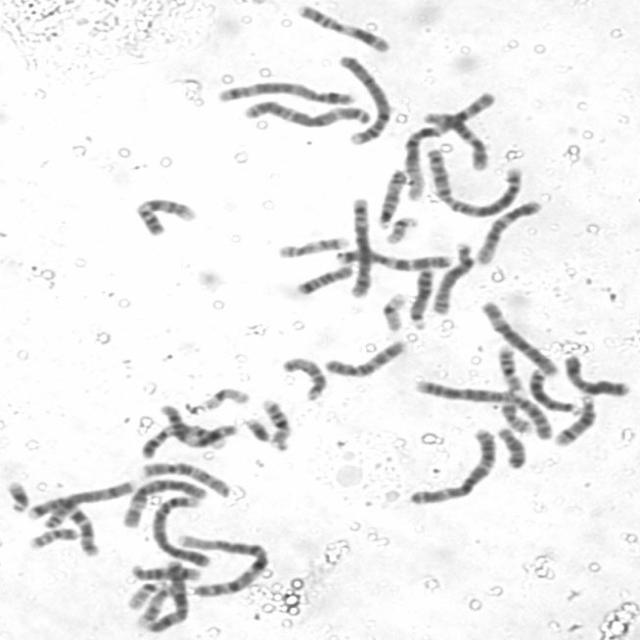A1: (400, 89, 497, 203), (174, 531, 272, 598)
A2: (409, 378, 555, 440), (422, 143, 526, 219)
A3: (405, 425, 500, 506), (240, 98, 373, 130)
B4: (334, 51, 394, 146), (148, 490, 211, 568)
B5: (214, 78, 358, 106), (345, 195, 374, 299)
C10: (320, 336, 410, 379), (136, 458, 232, 498)
C11: (291, 1, 394, 55), (156, 405, 236, 445)
C12: (474, 197, 545, 265), (420, 108, 491, 172)
C6: (476, 296, 560, 378), (120, 476, 208, 528)
C7: (25, 493, 102, 558), (334, 246, 455, 272)
C8: (37, 476, 138, 529), (428, 240, 476, 316)
C9: (131, 418, 234, 459), (132, 195, 199, 237)
D13: (526, 366, 582, 415), (408, 264, 436, 332)
D14: (550, 391, 598, 448), (127, 562, 202, 582)
D15: (277, 353, 330, 402), (374, 168, 409, 230)
E16: (258, 396, 293, 452), (494, 343, 524, 394)
E17: (272, 232, 351, 260), (134, 578, 171, 628)
E18: (293, 262, 354, 296), (492, 423, 530, 470)
F19: (195, 383, 252, 412), (378, 290, 408, 332)
F20: (26, 525, 80, 550), (497, 398, 532, 434)
G21: (242, 414, 284, 447), (3, 478, 30, 515)
G22: (124, 578, 170, 611), (381, 213, 418, 246)
X: (145, 559, 196, 635), (561, 351, 632, 398)
